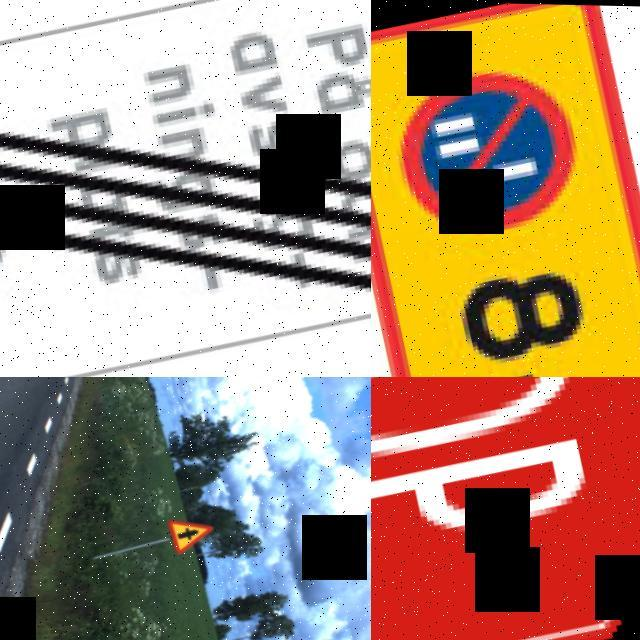115: (0, 0, 371, 377)
166: (162, 502, 225, 558)
181: (371, 0, 640, 377)
Stop: (371, 377, 640, 640)
